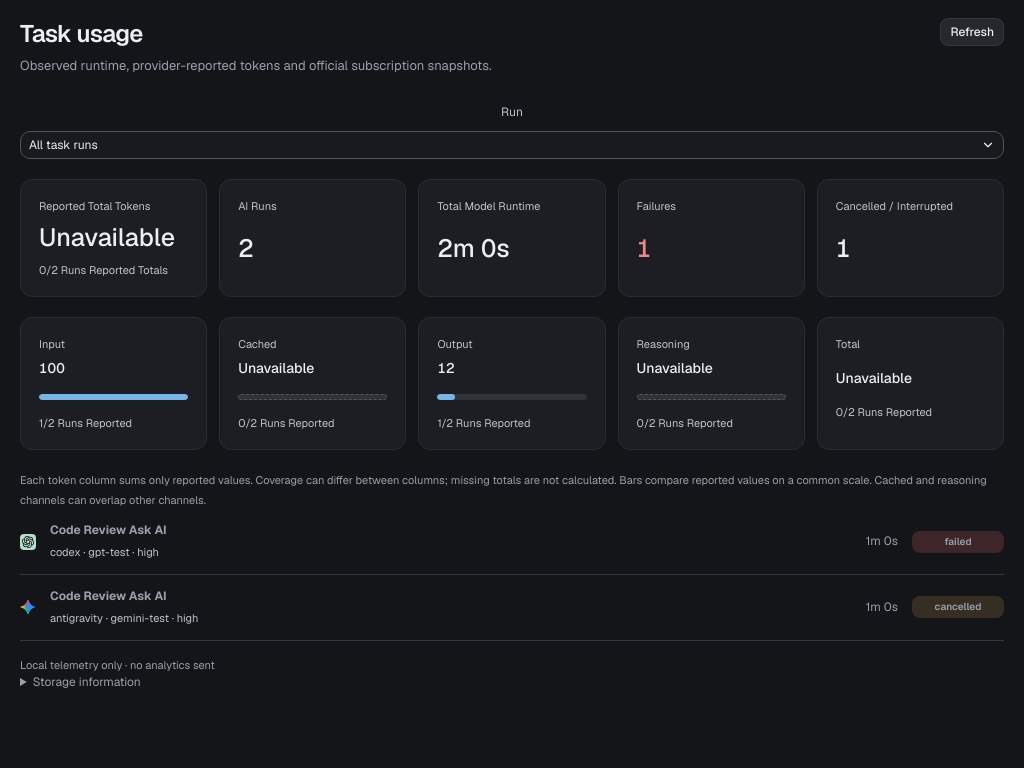
keeps failed/cancelled runs visible, sums reported fields only and exposes official matching-window deltas
Check: the heading "Task usage" is shown, box [20,18,143,49]
Check: the text "failed" is shown, box [912,530,1004,552]
Click the heading "Storage information" at coordinates (87, 682), box [33,674,141,690]
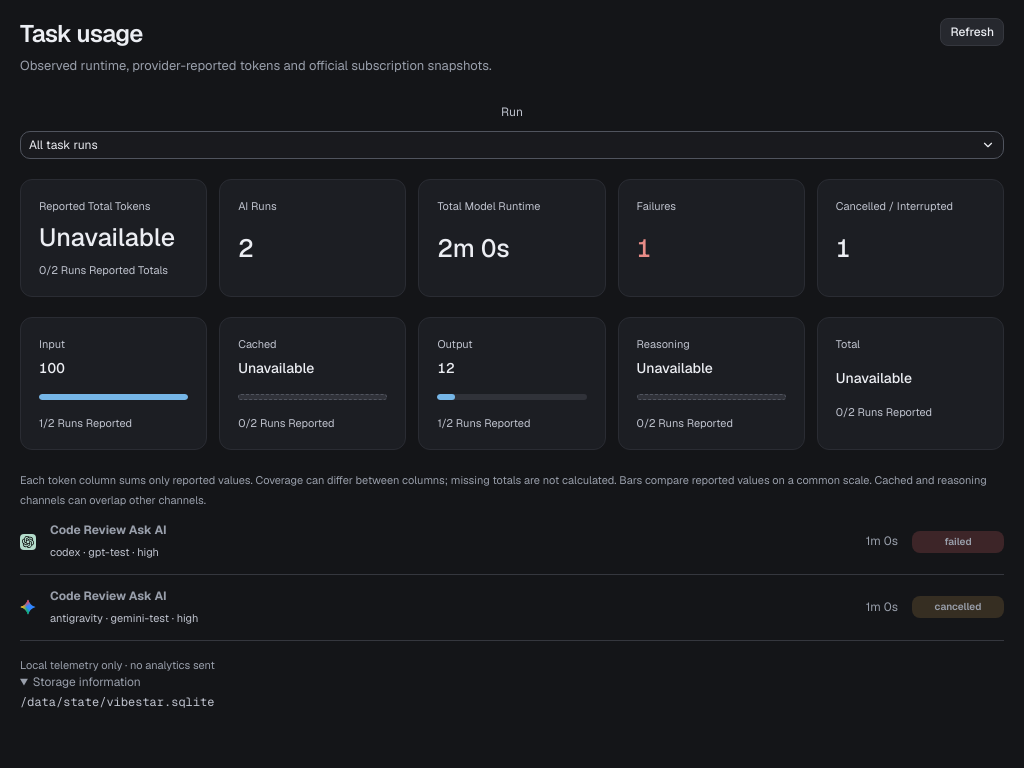
Check: the text "/data/state/vibestar.sqlite" is shown, box [20,694,214,710]
